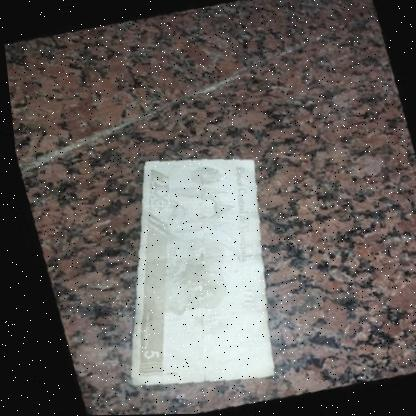five-back-vef: (55, 135, 318, 410)
